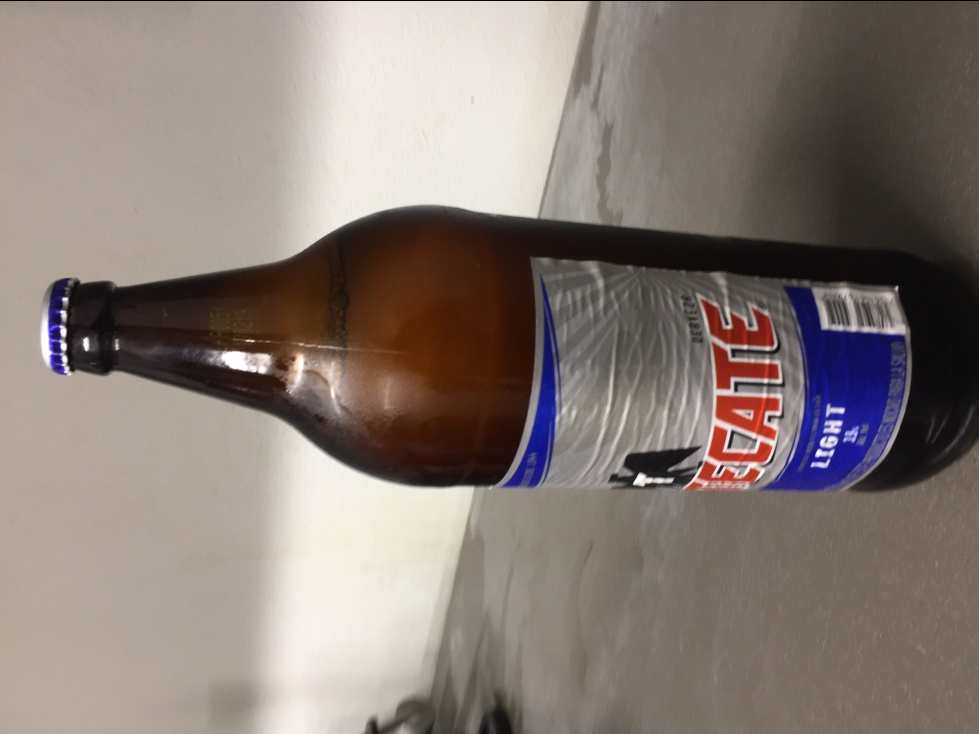tecateC: (31, 202, 979, 486)
